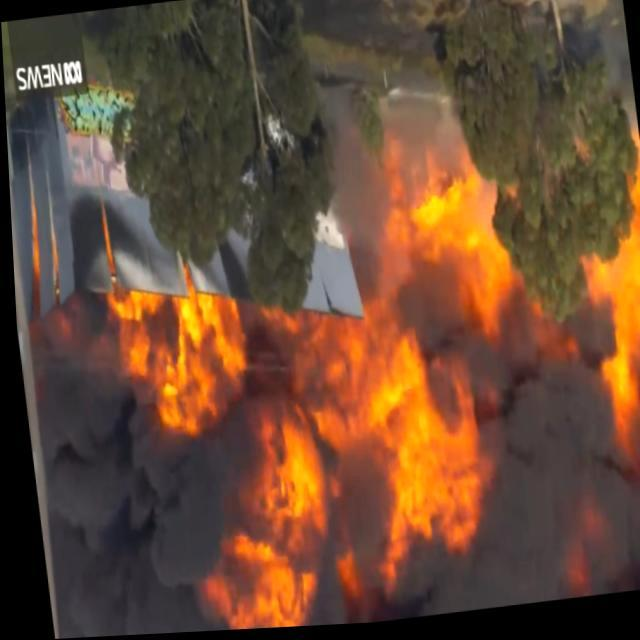fire: (156, 282, 499, 634), (389, 185, 511, 345), (578, 257, 640, 459), (614, 142, 640, 260)
